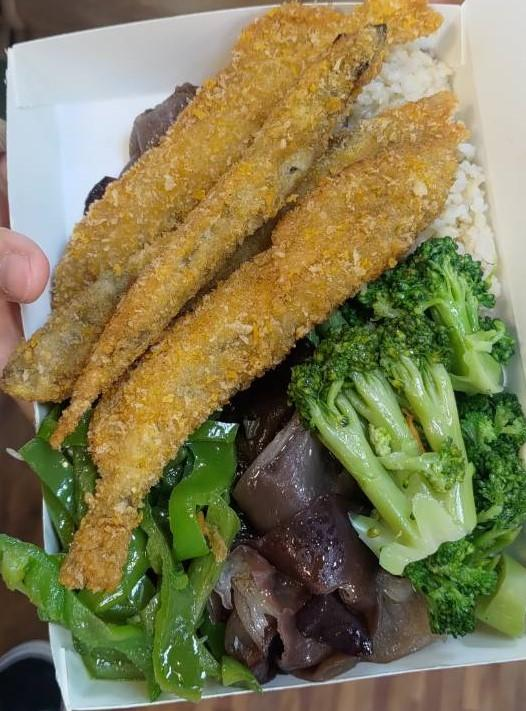big grilled chicken leg: (7, 10, 526, 711)
big herbal chicken leg: (245, 27, 488, 343)
braised fish fillet: (307, 257, 526, 624), (32, 389, 248, 679), (232, 379, 412, 670)
braised pork: (15, 2, 454, 591)
